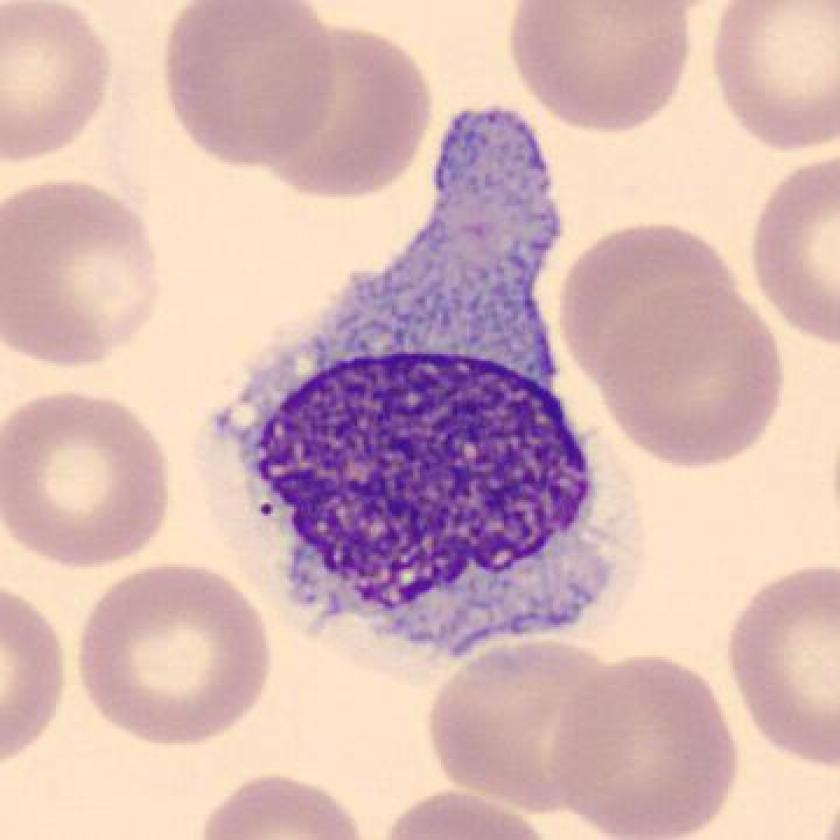monocyte: (188, 100, 659, 700)
